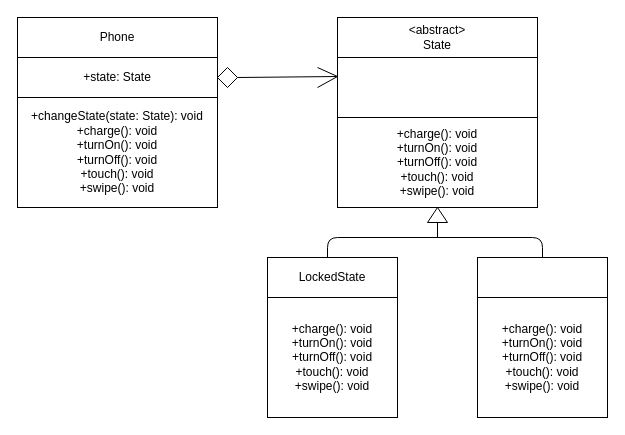
Image size: 625x435. Some labels were removed from this diagram. The shapes that lost their labels are listed below. From the top down, each one's box as (x1, y1, x2, y2) in pixels, then its label:
(336, 56, 538, 118): #phone: Phone #power: boolean #screenOn: boolean -constructor(phone: Phone)
(476, 256, 608, 298): ChargedState
